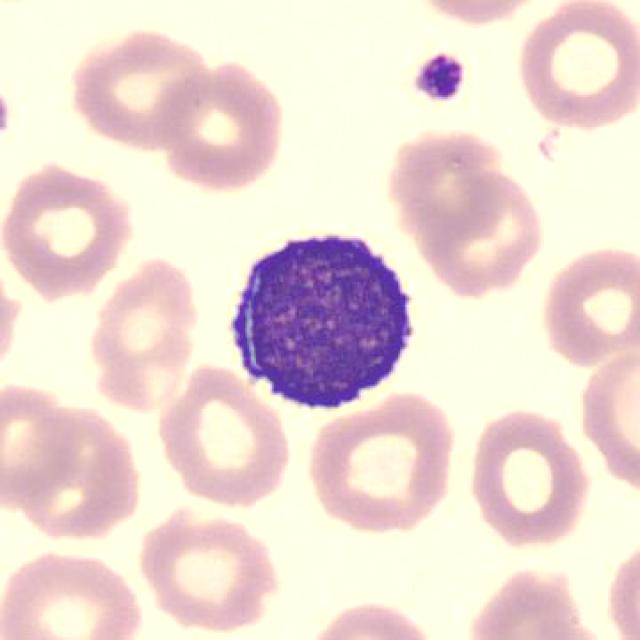Platelets: (409, 49, 469, 106)
RBC: (302, 388, 460, 539), (153, 361, 295, 513), (135, 502, 286, 636), (0, 155, 137, 302), (66, 23, 217, 153), (86, 248, 204, 412), (466, 404, 592, 554), (155, 54, 288, 196), (407, 168, 548, 294), (512, 0, 636, 134), (0, 546, 147, 640), (534, 242, 638, 370), (462, 562, 592, 638), (298, 596, 442, 640), (406, 0, 556, 32)
